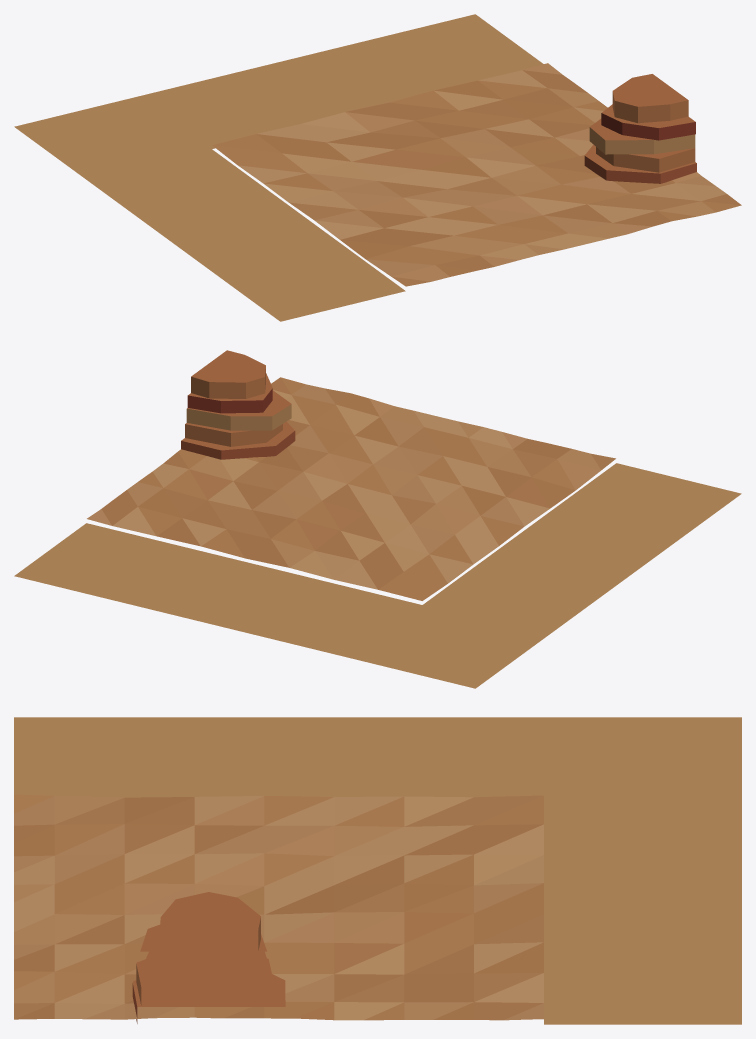
3 views of the same model, one above another, from view 1: azimuth 30°, elevation 25°; view 2: azimuth 150°, elevation 25°; view 3: azimuth 270°, elevation 25° (orthographic). The views are drawn at different scales.
Visible parts, largest first — view 1: baked; view 2: baked; view 3: baked.
Part boxes in pixels (x1,y1,x2,y2): baked: (14, 14, 741, 321); baked: (14, 350, 741, 688); baked: (14, 717, 741, 1024).
Size of the model in its own units: 125 by 18.11 by 125.
